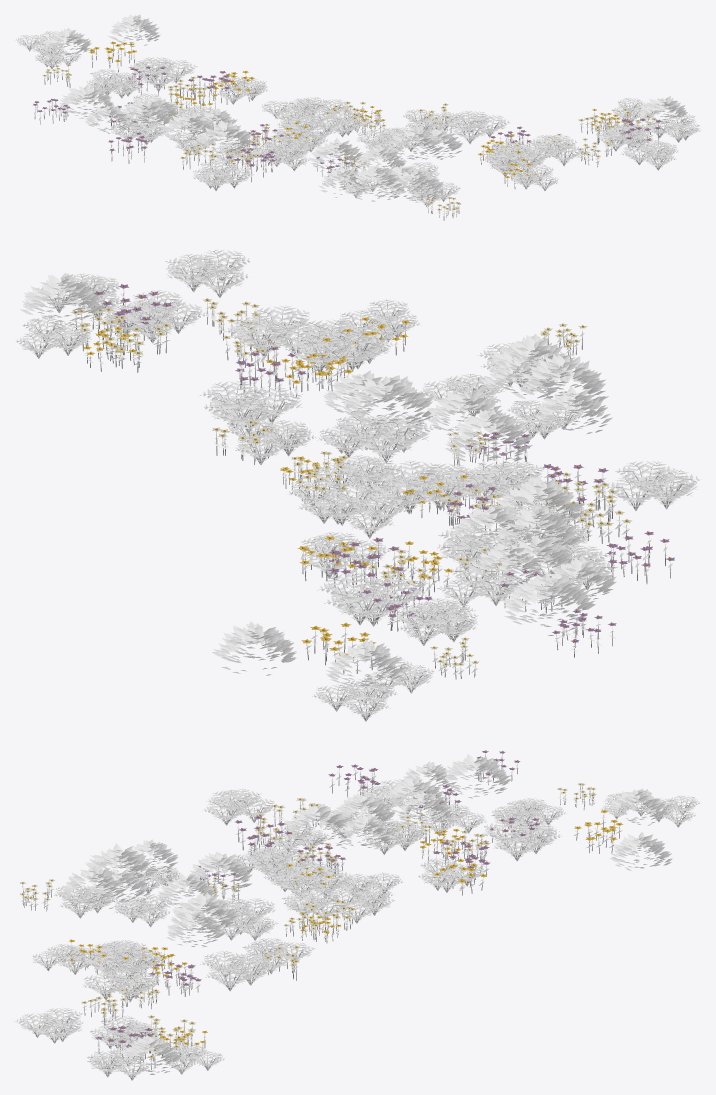
File: SM_DF_Nature_0_0_Flora.fbx
3 views of the same model, one above another, from view 1: azimuth 30°, elevation 25°; view 2: azimuth 150°, elevation 25°; view 3: azimuth 270°, elevation 25° (orthographic). The views are drawn at different scales.
Visible parts, largest first — view 1: SM_DF_Nature_0_0_Flora; view 2: SM_DF_Nature_0_0_Flora; view 3: SM_DF_Nature_0_0_Flora.
Part boxes in pixels (x1,y1,x2,y2): SM_DF_Nature_0_0_Flora: (15,14,700,220); SM_DF_Nature_0_0_Flora: (16,249,701,721); SM_DF_Nature_0_0_Flora: (14,750,699,1080).
Size of the model in its own units: 2149 by 2087 by 202.
